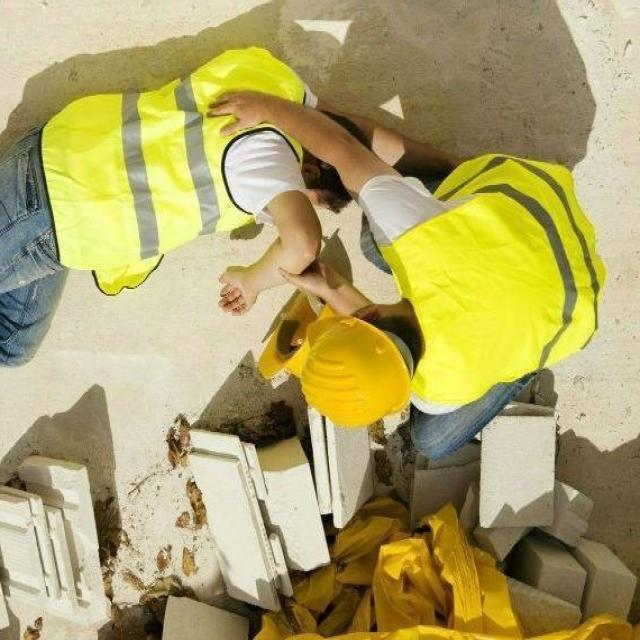helmet: (297, 314, 420, 426)
jacket: (36, 36, 312, 310), (405, 149, 613, 416)
